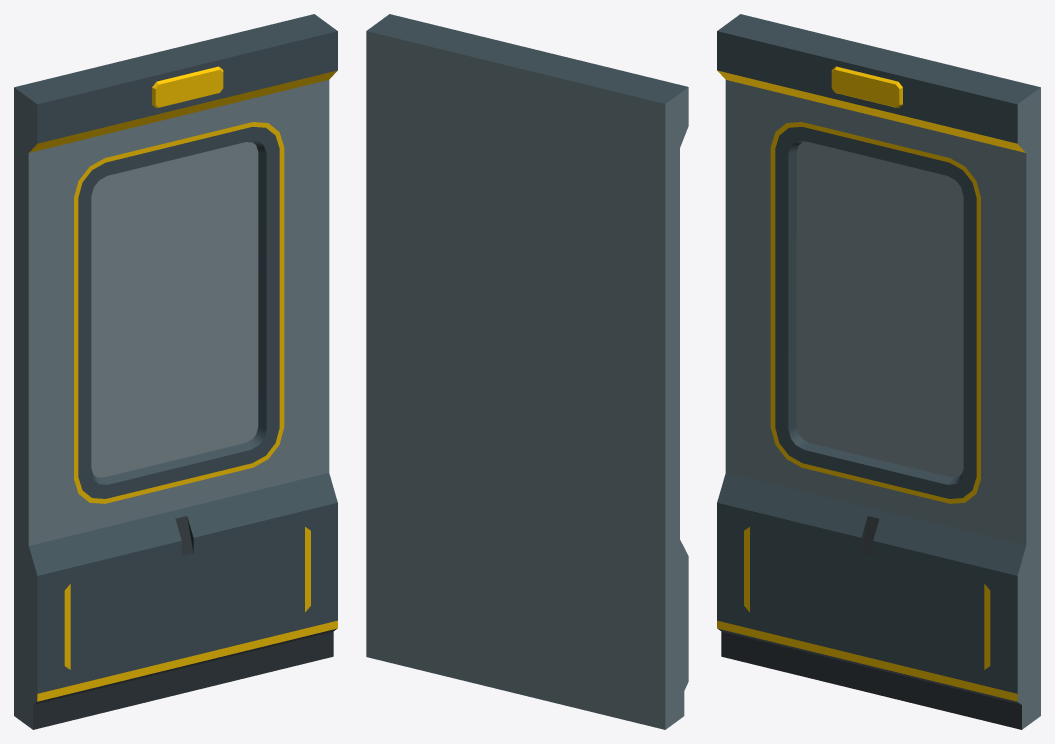
File: Wall_type_C_019.fbx
3 renders of one model, left to right at view 1: azimuth 30°, elevation 25°; view 2: azimuth 150°, elevation 25°; view 3: azimuth 330°, elevation 25°, orthographic.
Visible parts, largest first — view 1: Wall_type_C_019; view 2: Wall_type_C_019; view 3: Wall_type_C_019.
Part boxes in pixels (bbox=[...]): Wall_type_C_019: bbox=[14, 14, 337, 729]; Wall_type_C_019: bbox=[366, 14, 688, 729]; Wall_type_C_019: bbox=[717, 14, 1040, 729].
Bounding box in the file's own units: 200 × 28.98 × 400.
